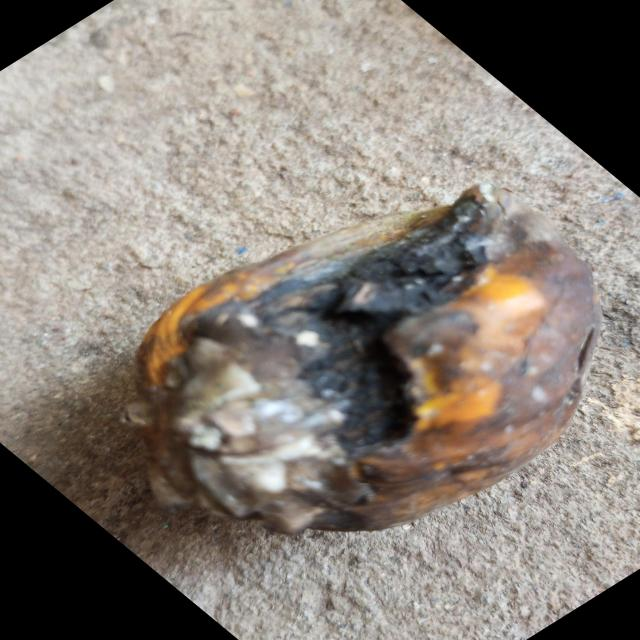damaged: (122, 184, 600, 533)
